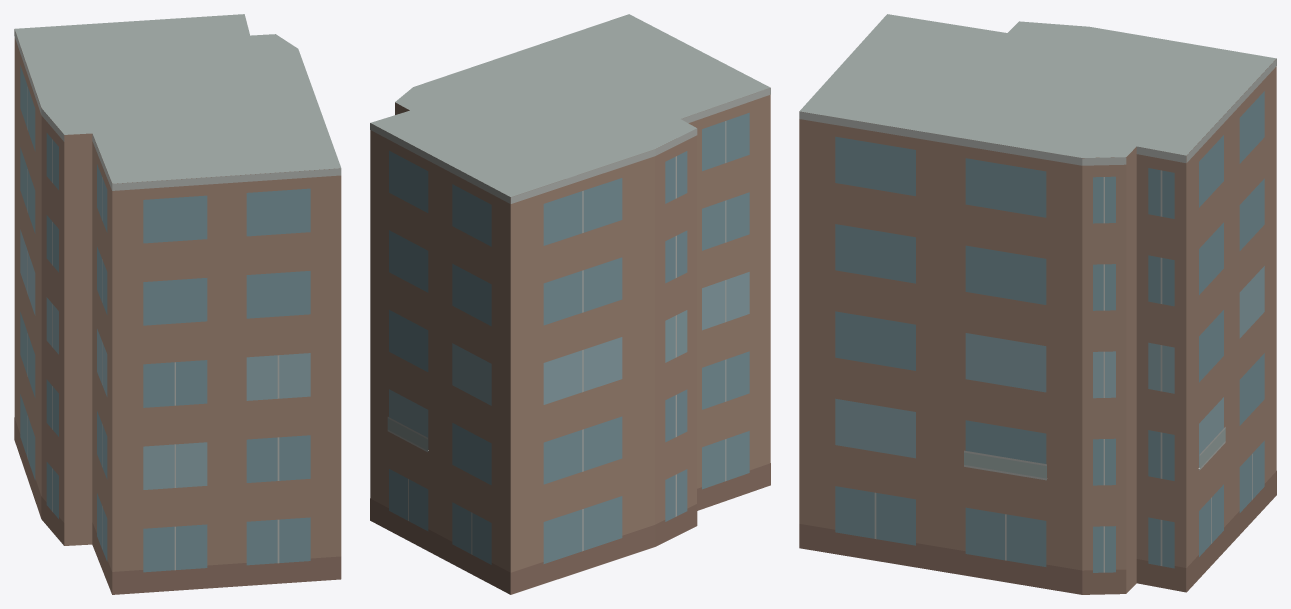
The model's file is survey-upis-32613816.glb.
3 renders of one model, left to right at view 1: azimuth 30°, elevation 25°; view 2: azimuth 150°, elevation 25°; view 3: azimuth 270°, elevation 25°, orthographic. The views are drawn at different scales.
Visible parts, largest first — view 1: survey-upis-32613816.tmp; view 2: survey-upis-32613816.tmp; view 3: survey-upis-32613816.tmp.
Part boxes in pixels (<box>): survey-upis-32613816.tmp: <box>14,14,341,594</box>; survey-upis-32613816.tmp: <box>370,14,770,594</box>; survey-upis-32613816.tmp: <box>799,14,1276,594</box>.
Size of the model in its own units: 9.84 by 13.9 by 13.78.
